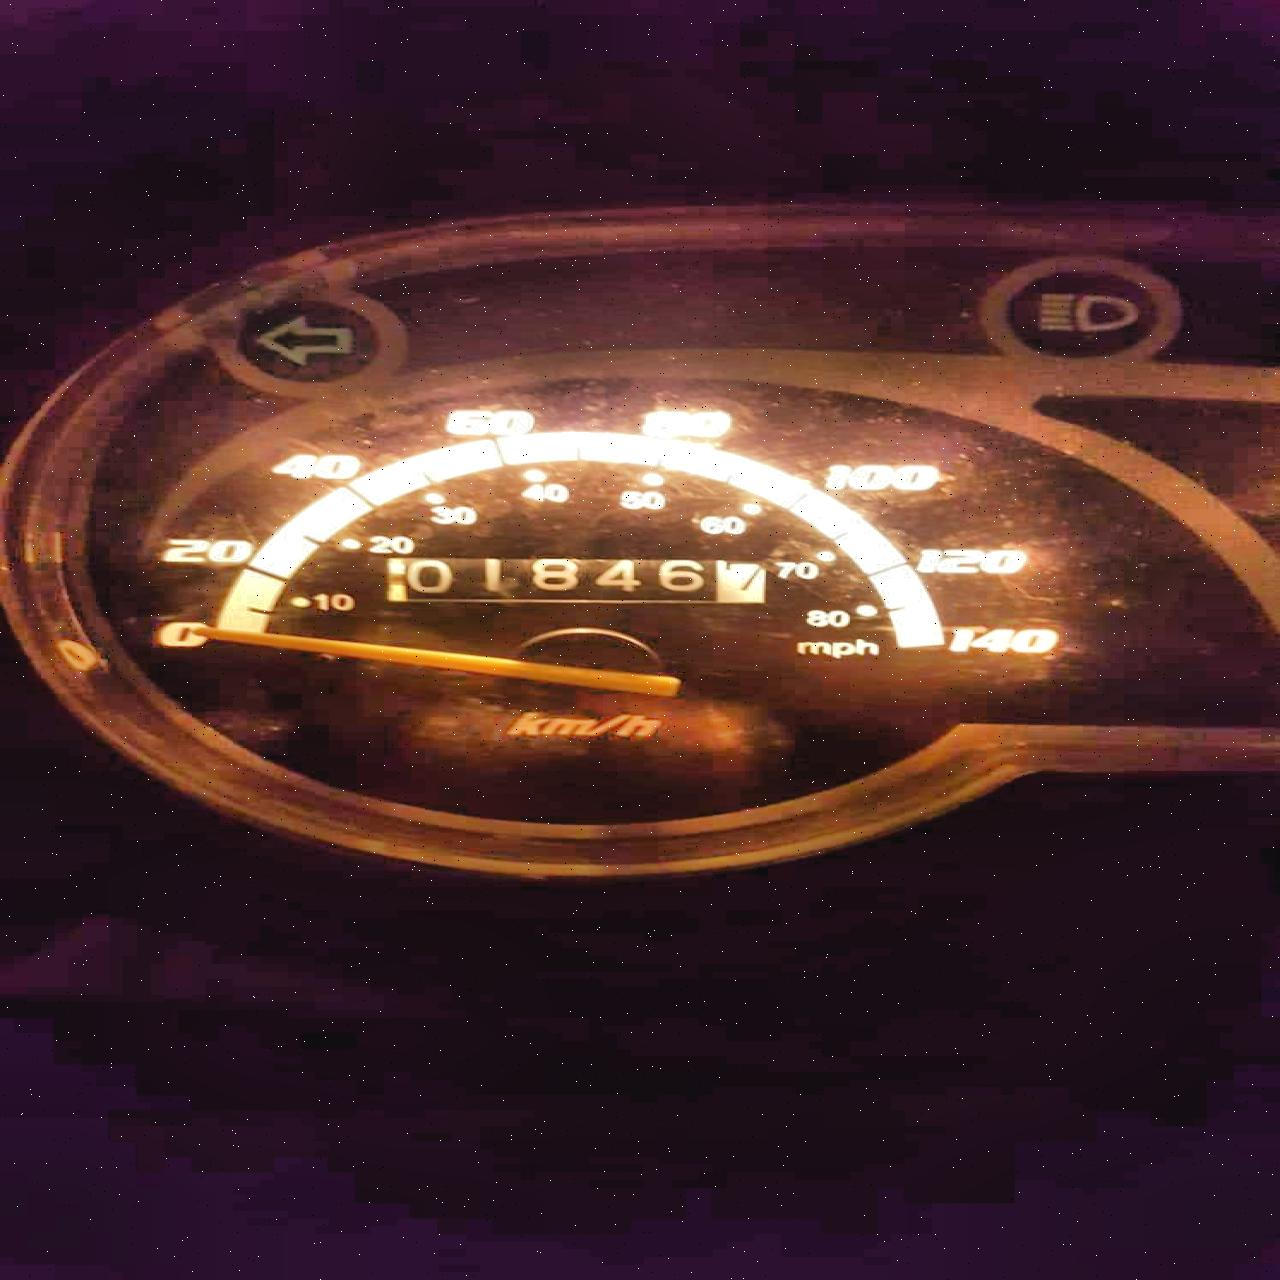0: (396, 557, 452, 595)
1: (476, 556, 509, 594)
4: (590, 558, 642, 592)
6: (654, 557, 708, 593)
7: (721, 557, 771, 593)
8: (524, 554, 583, 594)
odometer: (375, 551, 778, 614)
